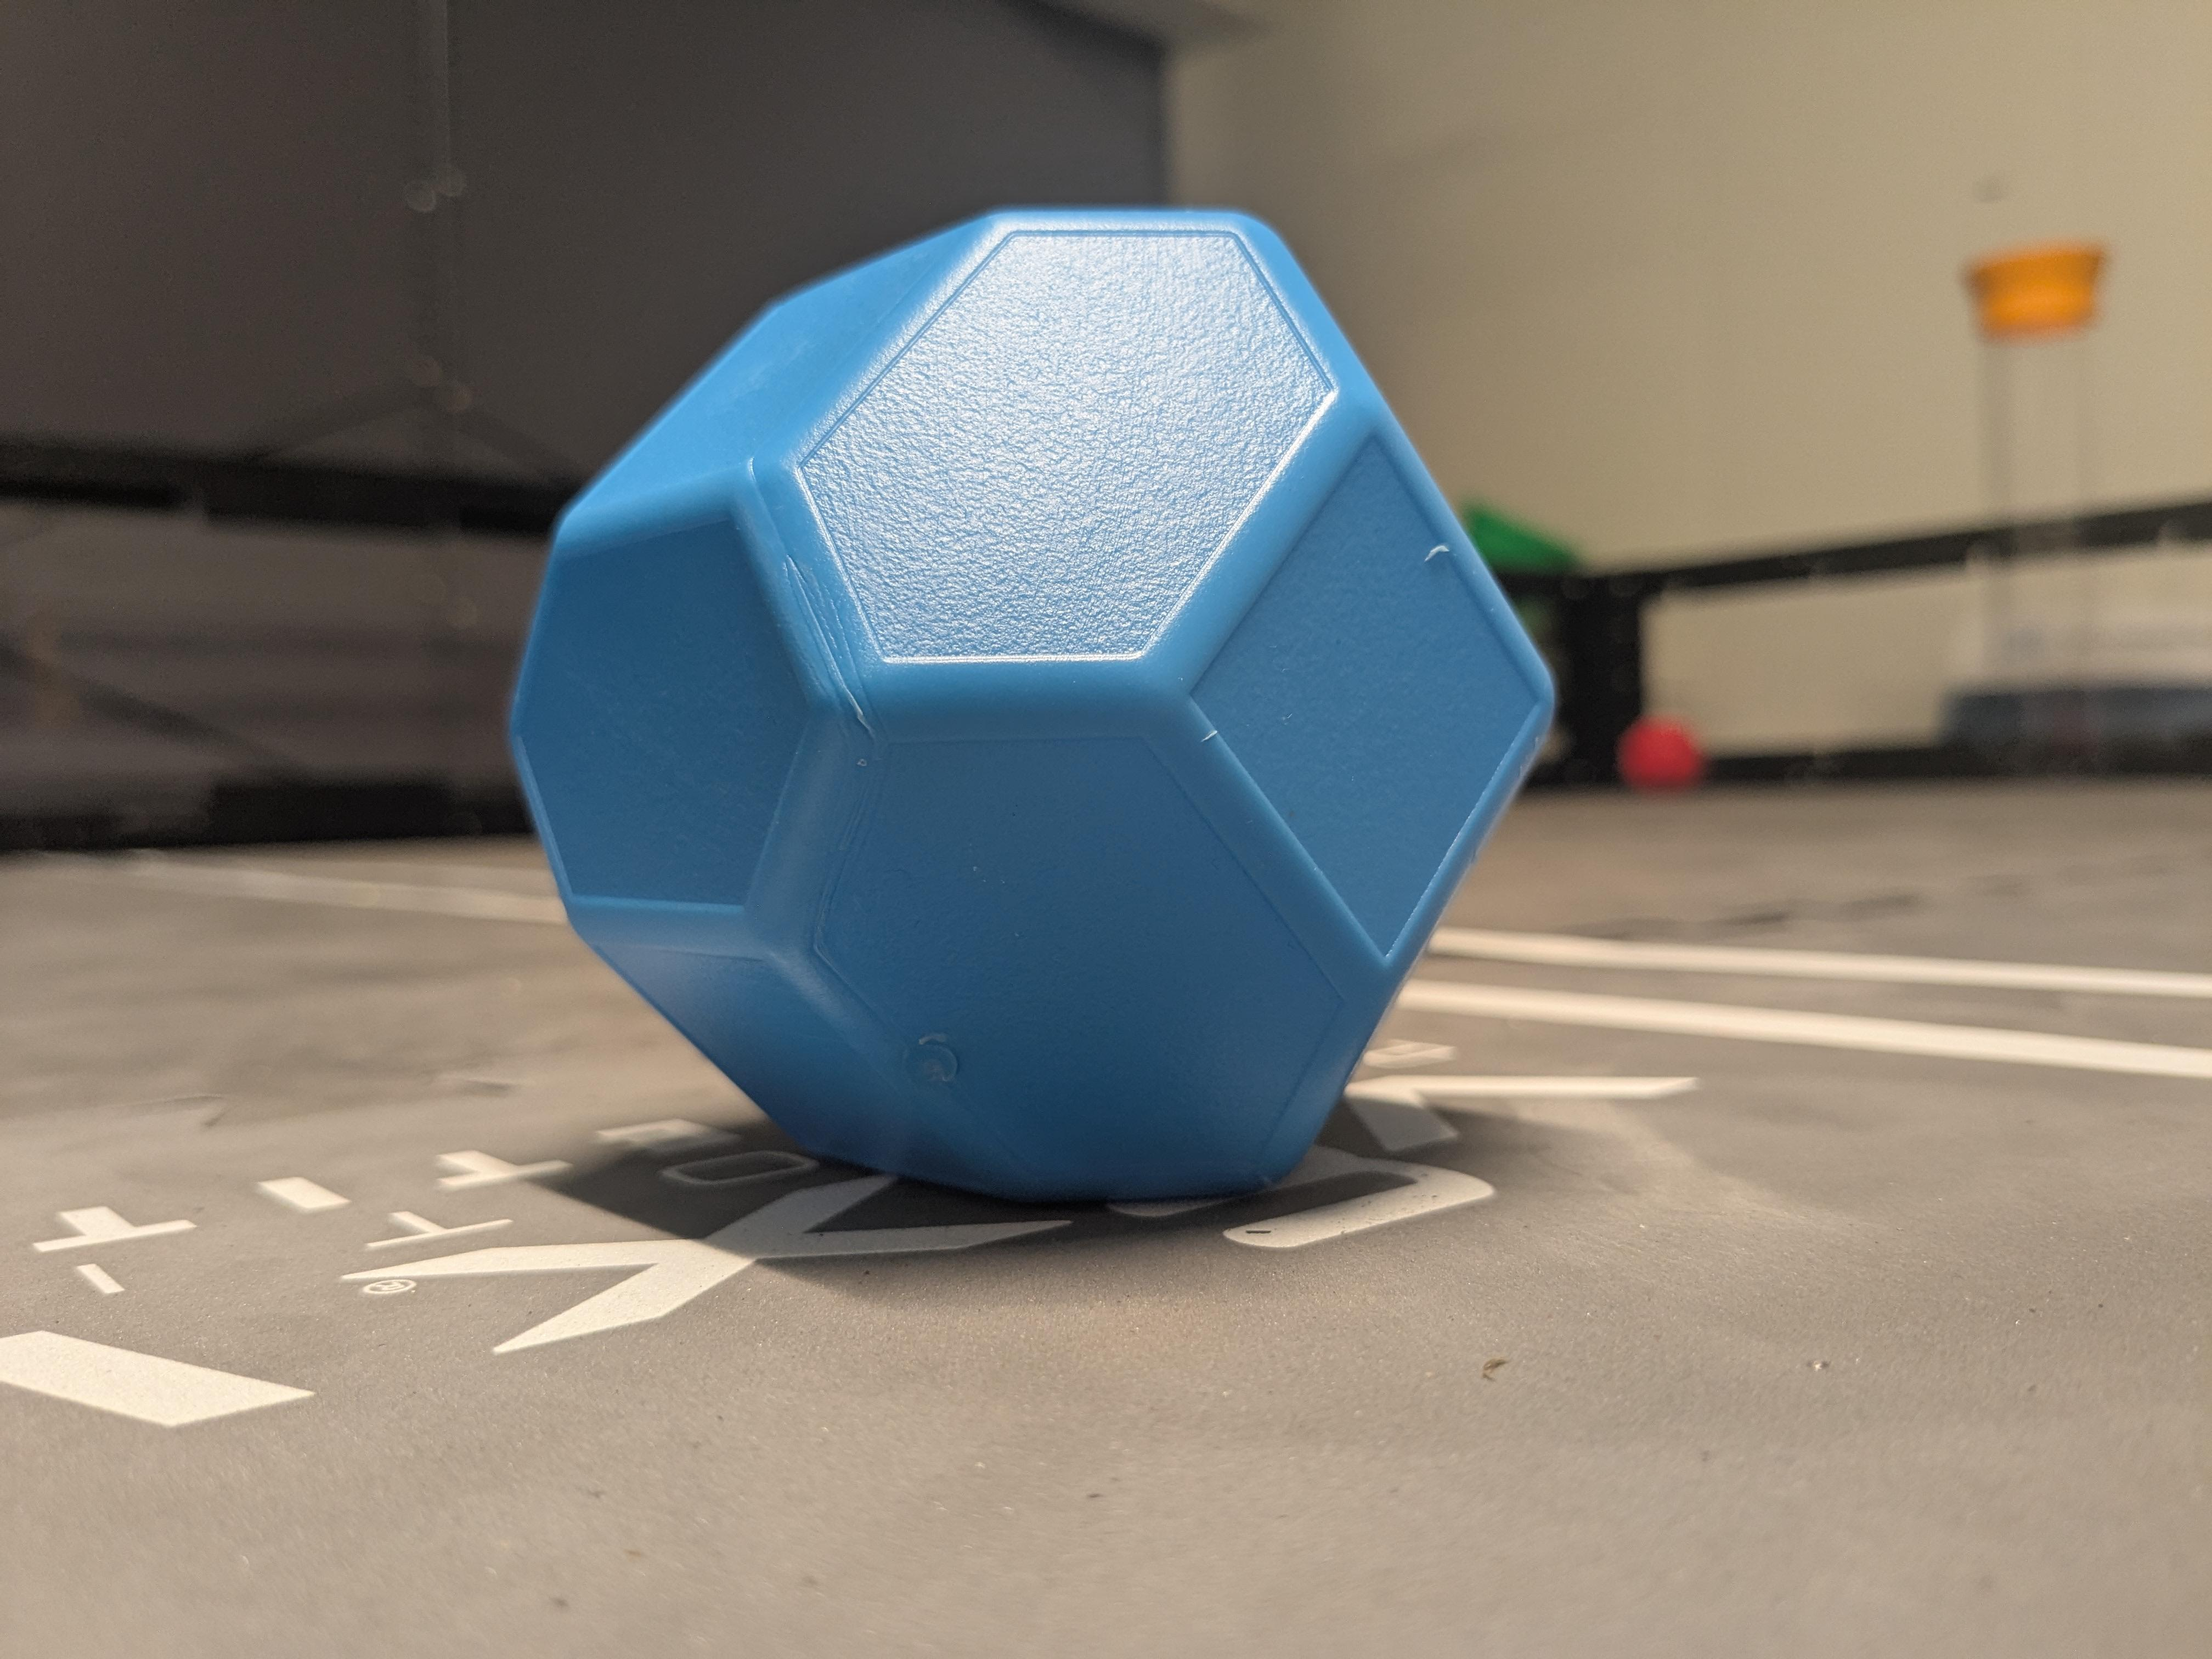Vex-Pieces-BLUE: (502, 207, 1566, 1215)
